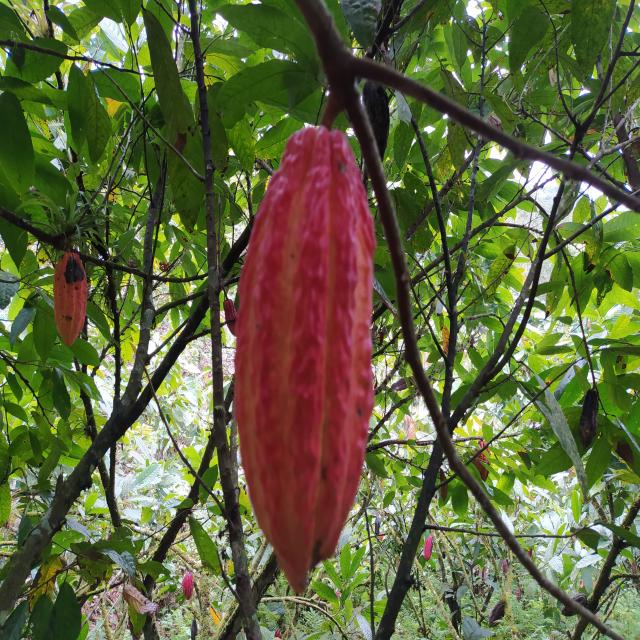Fitoftora: (54, 248, 86, 346), (578, 389, 598, 452), (424, 535, 433, 562), (191, 619, 198, 640), (375, 513, 379, 537)
Sana: (232, 130, 378, 594), (224, 288, 238, 336), (182, 572, 194, 600)
